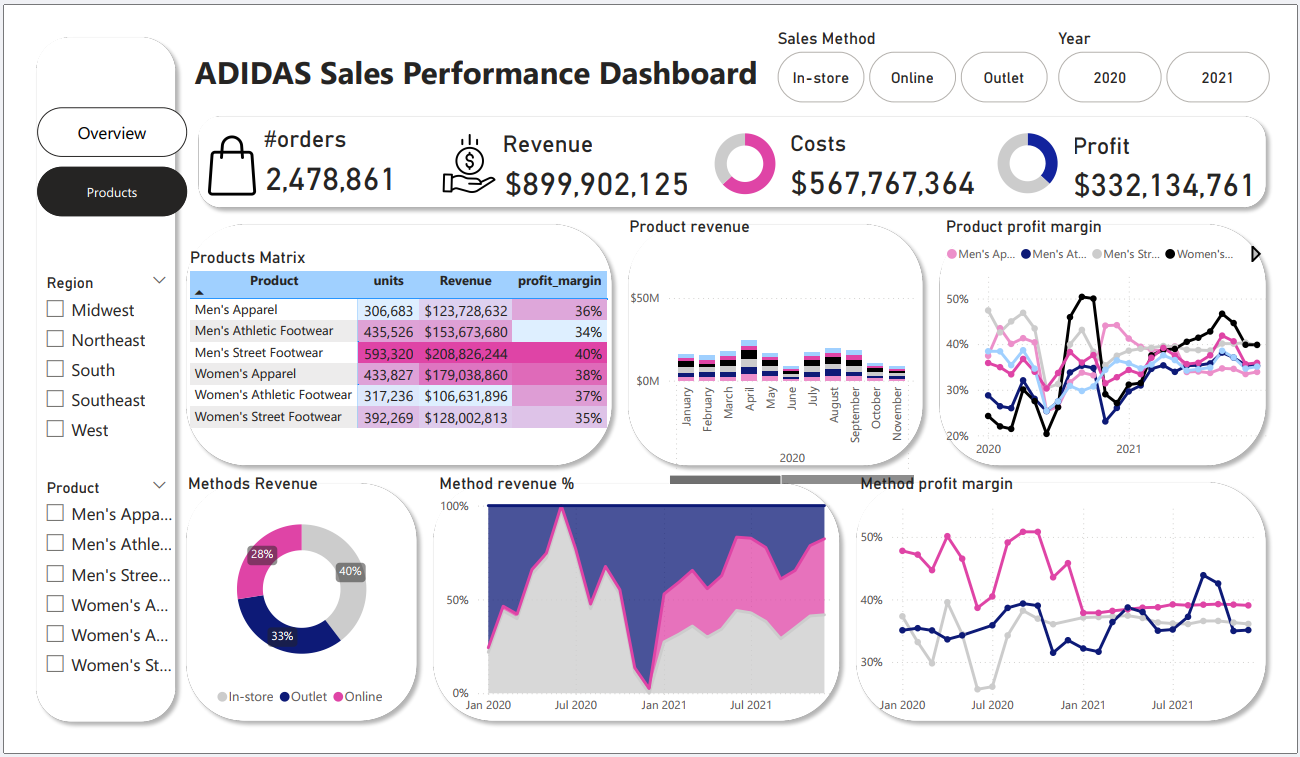

What the dashboard file says about the page in this screenshot:
{"tool":"powerbi","page":{"name":"Products","canvas":[1280,720],"ordinal":1},"visuals":[{"type":"shape","box":[0,0,161,720.6],"z":0},{"type":"shape","box":[166.7,81.7,1113.3,111.7],"z":1000},{"type":"shape","box":[155,193.3,453.3,263.3],"z":2000},{"type":"shape","box":[608.3,193.3,318.3,265],"z":3000},{"type":"shape","box":[841.7,456.7,438.3,263.3],"z":4000},{"type":"shape","box":[408.3,458.3,433.3,261.7],"z":5000},{"type":"shape","box":[155,458.3,253.3,261.7],"z":6000},{"type":"textbox","box":[166.7,16.7,611.7,65],"z":7000},{"type":"card","title":"#orders","fields":{"Values":["Sum(adi.Units Sold)"]},"box":[238.3,100,146.7,76.7],"z":8000},{"type":"card","title":"Revenue","fields":{"Values":["Sum(adi.Total Sales)"]},"box":[483.3,105,203.3,76.7],"z":9000},{"type":"card","title":"Profit","fields":{"Values":["Sum(adi.Operating Profit)"]},"box":[1068.3,106.7,198.3,76.7],"z":10000},{"type":"card","title":"Costs","fields":{"Values":["adi.costs"]},"box":[778.3,105,200,76.7],"z":11000},{"type":"image","box":[170,105,80,71.7],"z":12000},{"type":"image","box":[418.3,100,70,76.7],"z":13000},{"type":"donutChart","fields":{"Y":["adi.cost","Sum(adi.Operating Profit)"]},"box":[690,95,93.3,88.3],"z":14000},{"type":"donutChart","fields":{"Y":["Sum(adi.Operating Profit)","adi.cost"]},"box":[978.3,95,96.7,86.7],"z":15000},{"type":"slicer","fields":{"Values":["adi.Region"]},"box":[6.5,247.2,148,187.1],"z":16000},{"type":"slicer","fields":{"Values":["adi.Product"]},"box":[6.5,457.1,148,235.8],"z":17000},{"type":"advancedSlicerVisual","fields":{"Values":["adi.Invoice Date.Variation.Date Hierarchy.Year"]},"box":[1053.3,0,226.7,81.7],"z":18000},{"type":"advancedSlicerVisual","fields":{"Values":["adi.Sales Method"]},"box":[765,0,288.3,81.7],"z":19000},{"type":"shape","box":[926.7,193.3,353.3,265],"z":20000},{"type":"pivotTable","title":"Products Matrix","fields":{"Rows":["adi.Product"],"Values":["adi.units","adi.Revenue","adi.profit_margin"]},"box":[161.7,225,446.7,215],"z":21000},{"type":"donutChart","title":"Methods Revenue","fields":{"Category":["adi.Sales Method"],"Y":["adi.Revenue"]},"box":[160,456.7,243.3,248.3],"z":22000},{"type":"hundredPercentStackedAreaChart","title":"Method revenue %","fields":{"Category":["adi.Invoice Date.Variation.Date Hierarchy.Year","adi.Invoice Date.Variation.Date Hierarchy.Month"],"Y":["adi.Revenue"],"Series":["adi.Sales Method"]},"box":[418.3,456.7,426.7,256.7],"z":23000},{"type":"lineChart","title":"Method profit margin","fields":{"Category":["adi.Invoice Date.Variation.Date Hierarchy.Year","adi.Invoice Date.Variation.Date Hierarchy.Month"],"Y":["adi.profit_margin"],"Series":["adi.Sales Method"]},"box":[850,456.7,430,256.7],"z":24000},{"type":"columnChart","title":"Product revenue","fields":{"Category":["adi.Invoice Date.Variation.Date Hierarchy.Year","adi.Invoice Date.Variation.Date Hierarchy.Month"],"Y":["adi.Revenue"],"Series":["adi.Product"]},"box":[613.3,193.3,301.7,278.3],"z":25000},{"type":"lineChart","title":"Product profit margin","fields":{"Category":["adi.Invoice Date.Variation.Date Hierarchy.Year","adi.Invoice Date.Variation.Date Hierarchy.Month"],"Series":["adi.Product"],"Y":["adi.profit_margin"]},"box":[938.3,193.3,341.7,256.7],"z":26000},{"type":"pageNavigator","box":[9.8,81.3,154.5,112.2],"z":27000}]}

Visuals, with their boxes on the page's 1280x720 design canvas (x1, y1, x2, y2). These are canvas units, not pixel positions in the 1300x757 screenshot, which may show the page scaled, cropped or inside an application window:
shape: (0,0,161,721)
shape: (167,82,1280,193)
shape: (155,193,608,457)
shape: (608,193,927,458)
shape: (842,457,1280,720)
shape: (408,458,842,720)
shape: (155,458,408,720)
textbox: (167,17,778,82)
"#orders" card: (238,100,385,177)
"Revenue" card: (483,105,687,182)
"Profit" card: (1068,107,1267,183)
"Costs" card: (778,105,978,182)
image: (170,105,250,177)
image: (418,100,488,177)
donutChart - adi.cost x Sum(adi.Operating Profit): (690,95,783,183)
donutChart - Sum(adi.Operating Profit) x adi.cost: (978,95,1075,182)
slicer - adi.Region: (6,247,154,434)
slicer - adi.Product: (6,457,154,693)
advancedSlicerVisual - adi.Invoice Date.Variation.Date Hierarchy.Year: (1053,0,1280,82)
advancedSlicerVisual - adi.Sales Method: (765,0,1053,82)
shape: (927,193,1280,458)
"Products Matrix" pivotTable: (162,225,608,440)
"Methods Revenue" donutChart: (160,457,403,705)
"Method revenue %" hundredPercentStackedAreaChart: (418,457,845,713)
"Method profit margin" lineChart: (850,457,1280,713)
"Product revenue" columnChart: (613,193,915,472)
"Product profit margin" lineChart: (938,193,1280,450)
pageNavigator: (10,81,164,194)
